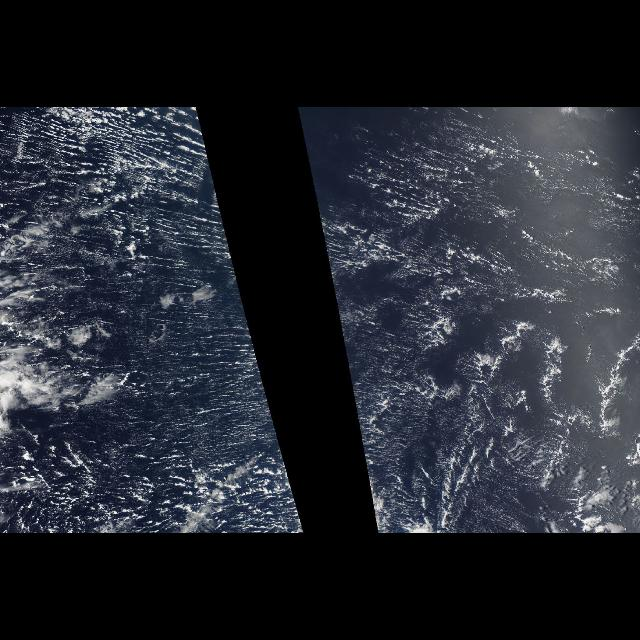Fish: (544, 314, 640, 508)
Gravel: (360, 274, 636, 446)
Sugar: (321, 120, 635, 476), (12, 120, 220, 284), (152, 299, 282, 463), (23, 466, 178, 528)
